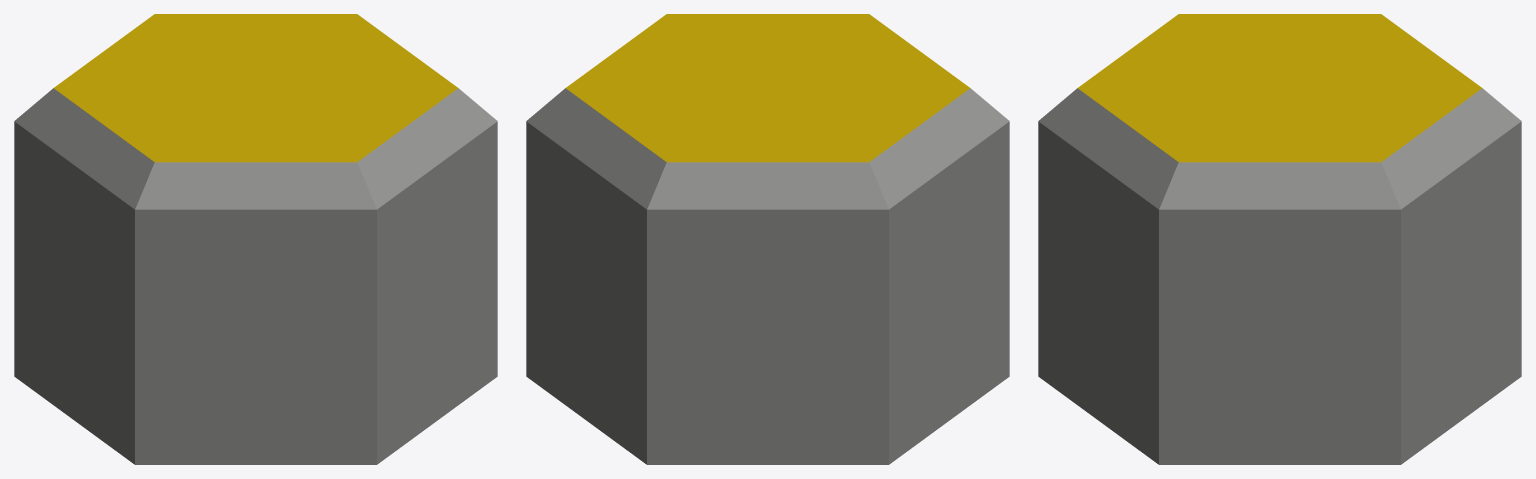
The model's file is WarpTrap.obj.
3 renders of one model, left to right at view 1: azimuth 30°, elevation 25°; view 2: azimuth 150°, elevation 25°; view 3: azimuth 270°, elevation 25°, orthographic.
Parts seen in each view (by area): view 1: 円柱; view 2: 円柱; view 3: 円柱.
Part boxes in pixels (box(x1,y1,x2,y2)): 円柱: box(14, 14, 497, 464); 円柱: box(526, 14, 1009, 464); 円柱: box(1038, 14, 1521, 464).
Size of the model in its own units: 1.73 by 1.32 by 2.
